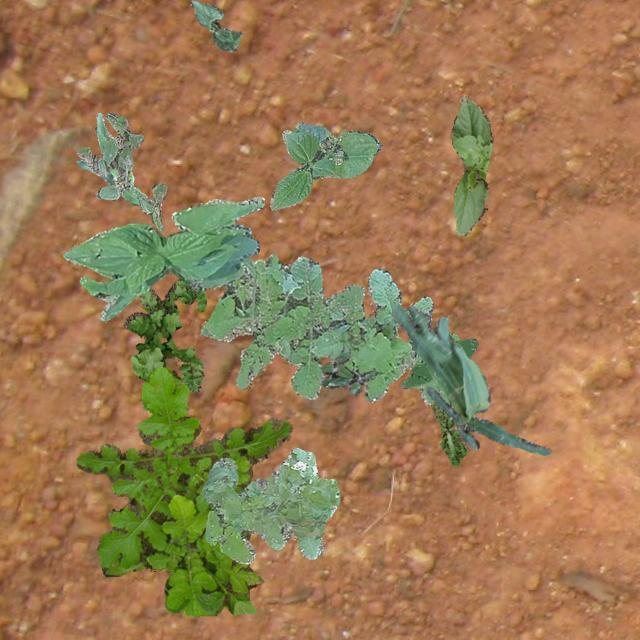crop: (62, 196, 264, 320), (390, 304, 550, 454), (268, 122, 381, 210), (75, 112, 138, 205), (451, 94, 492, 234), (188, 0, 240, 51)
weed: (76, 366, 292, 616), (200, 254, 458, 404), (200, 447, 340, 562), (76, 110, 166, 230), (122, 276, 205, 392), (399, 338, 476, 388), (319, 346, 376, 394), (432, 400, 466, 466)
